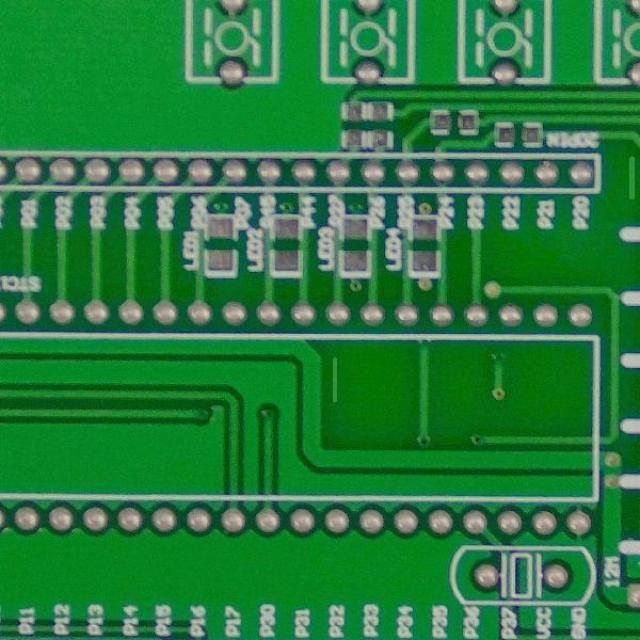spurious_copper: (324, 353, 349, 408), (622, 151, 639, 207)
